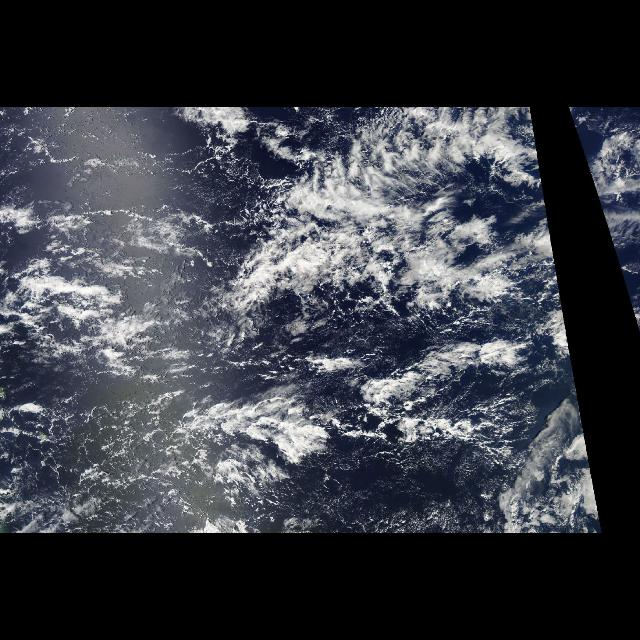Fish: (356, 333, 530, 449)
Gravel: (1, 113, 496, 532)
